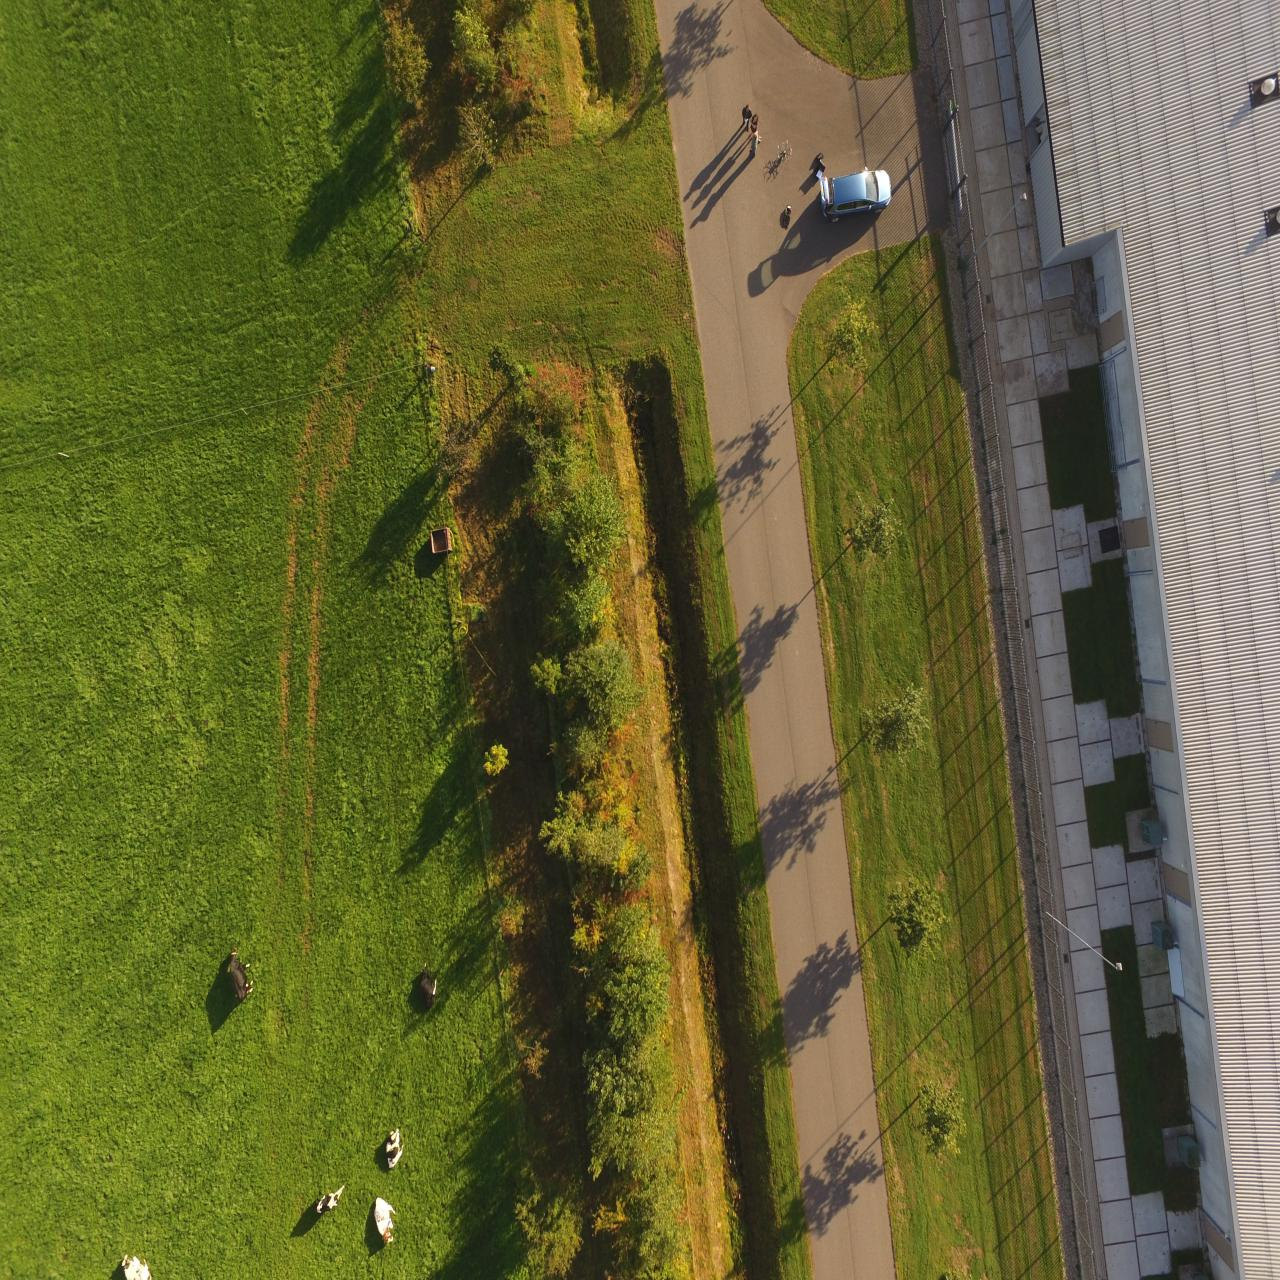cow: (223, 942, 257, 1005), (368, 1192, 399, 1248), (411, 958, 438, 1019), (313, 1179, 347, 1219), (381, 1122, 406, 1170)
